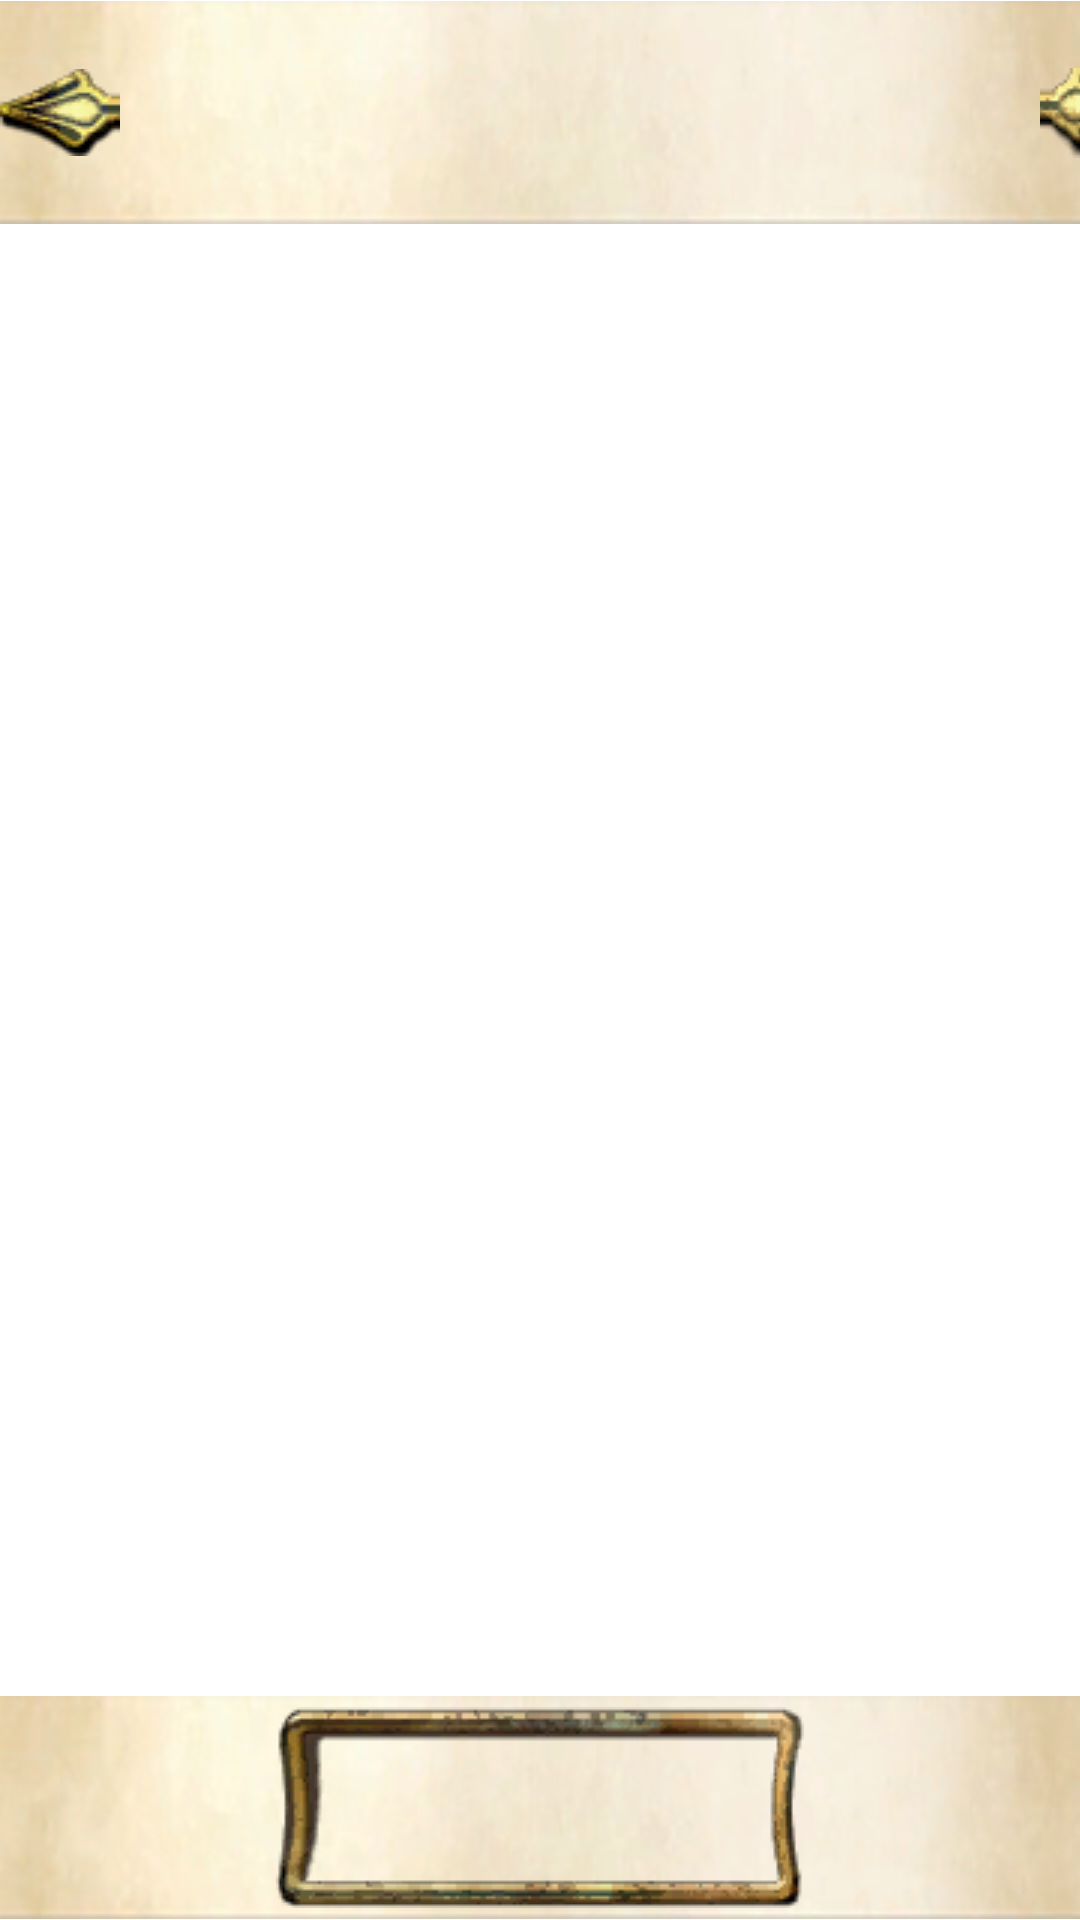

Icon click points for this 1080 x 1920 phone screenshot, format (x=x, y=y):
leftarrow: (x=60, y=112)
